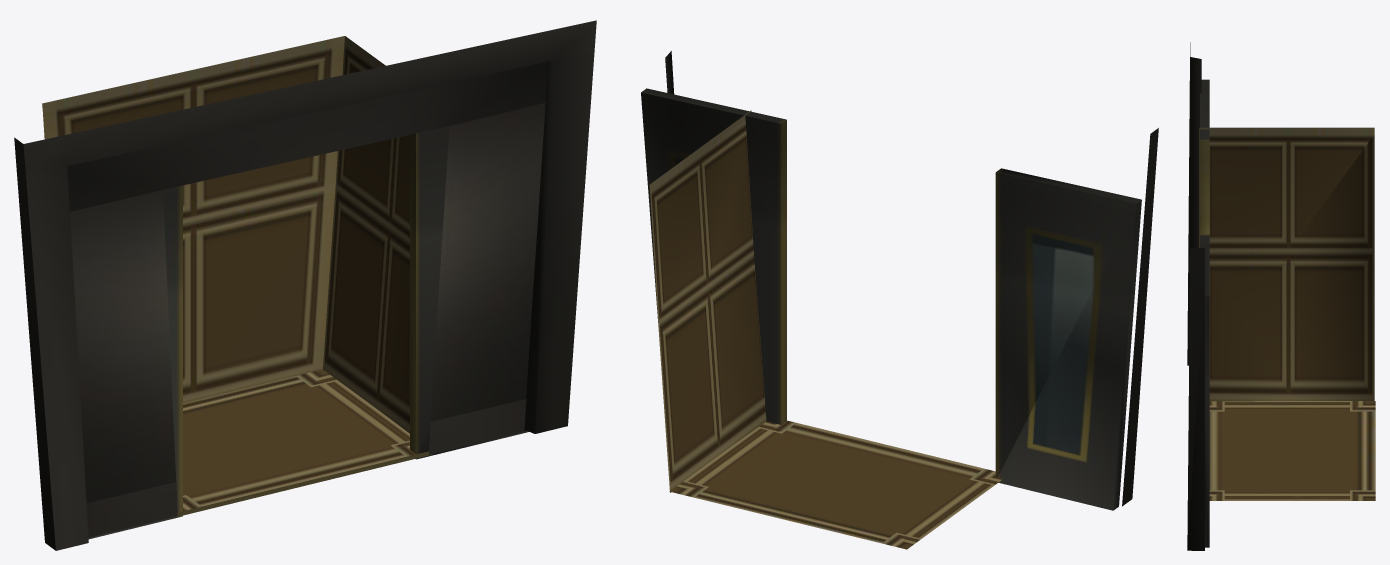
The model's file is elevator.glb.
3 renders of one model, left to right at view 1: azimuth 30°, elevation 25°; view 2: azimuth 150°, elevation 25°; view 3: azimuth 270°, elevation 25°, orthographic. The views are drawn at different scales.
Visible parts, largest first — view 1: elevator, frame, decal_base, decal_base1, Grp_elevatorB, right_door, decals (×2), left_door; view 2: left_door, elevator, Grp_elevatorB, right_door, frame; view 3: elevator, Grp_elevatorB, frame, right_door, left_door.
Part boxes in pixels (x1,y1,x2,y2): elevator: [42, 36, 547, 516]; frame: [14, 20, 596, 550]; decal_base: [428, 103, 545, 451]; decal_base1: [70, 190, 176, 503]; Grp_elevatorB: [183, 369, 415, 510]; right_door: [410, 125, 528, 459]; decals (×2): [86, 399, 526, 537]; left_door: [88, 185, 182, 539]; left_door: [995, 168, 1141, 510]; elevator: [649, 110, 766, 492]; Grp_elevatorB: [669, 420, 1002, 549]; right_door: [641, 88, 786, 424]; frame: [665, 51, 1158, 506]; elevator: [1199, 127, 1374, 401]; Grp_elevatorB: [1209, 401, 1375, 500]; frame: [1187, 42, 1204, 550]; right_door: [1200, 234, 1209, 547]; left_door: [1200, 79, 1209, 234].
Bounding box in the file's own units: 17.93 × 12.46 × 6.43.
4 materials, 4 textured.
